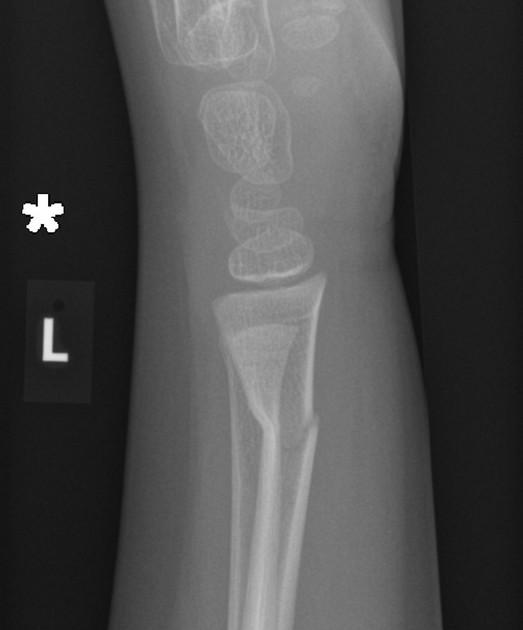fractured: (261, 416, 320, 458)
